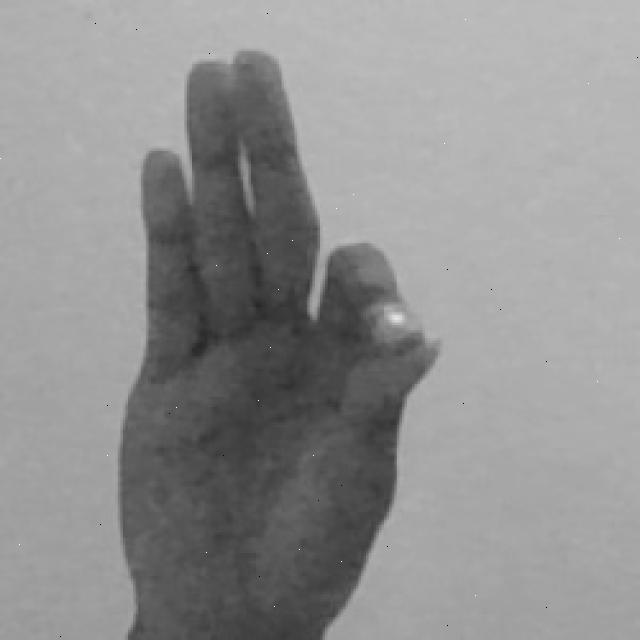F: (116, 48, 443, 640)
